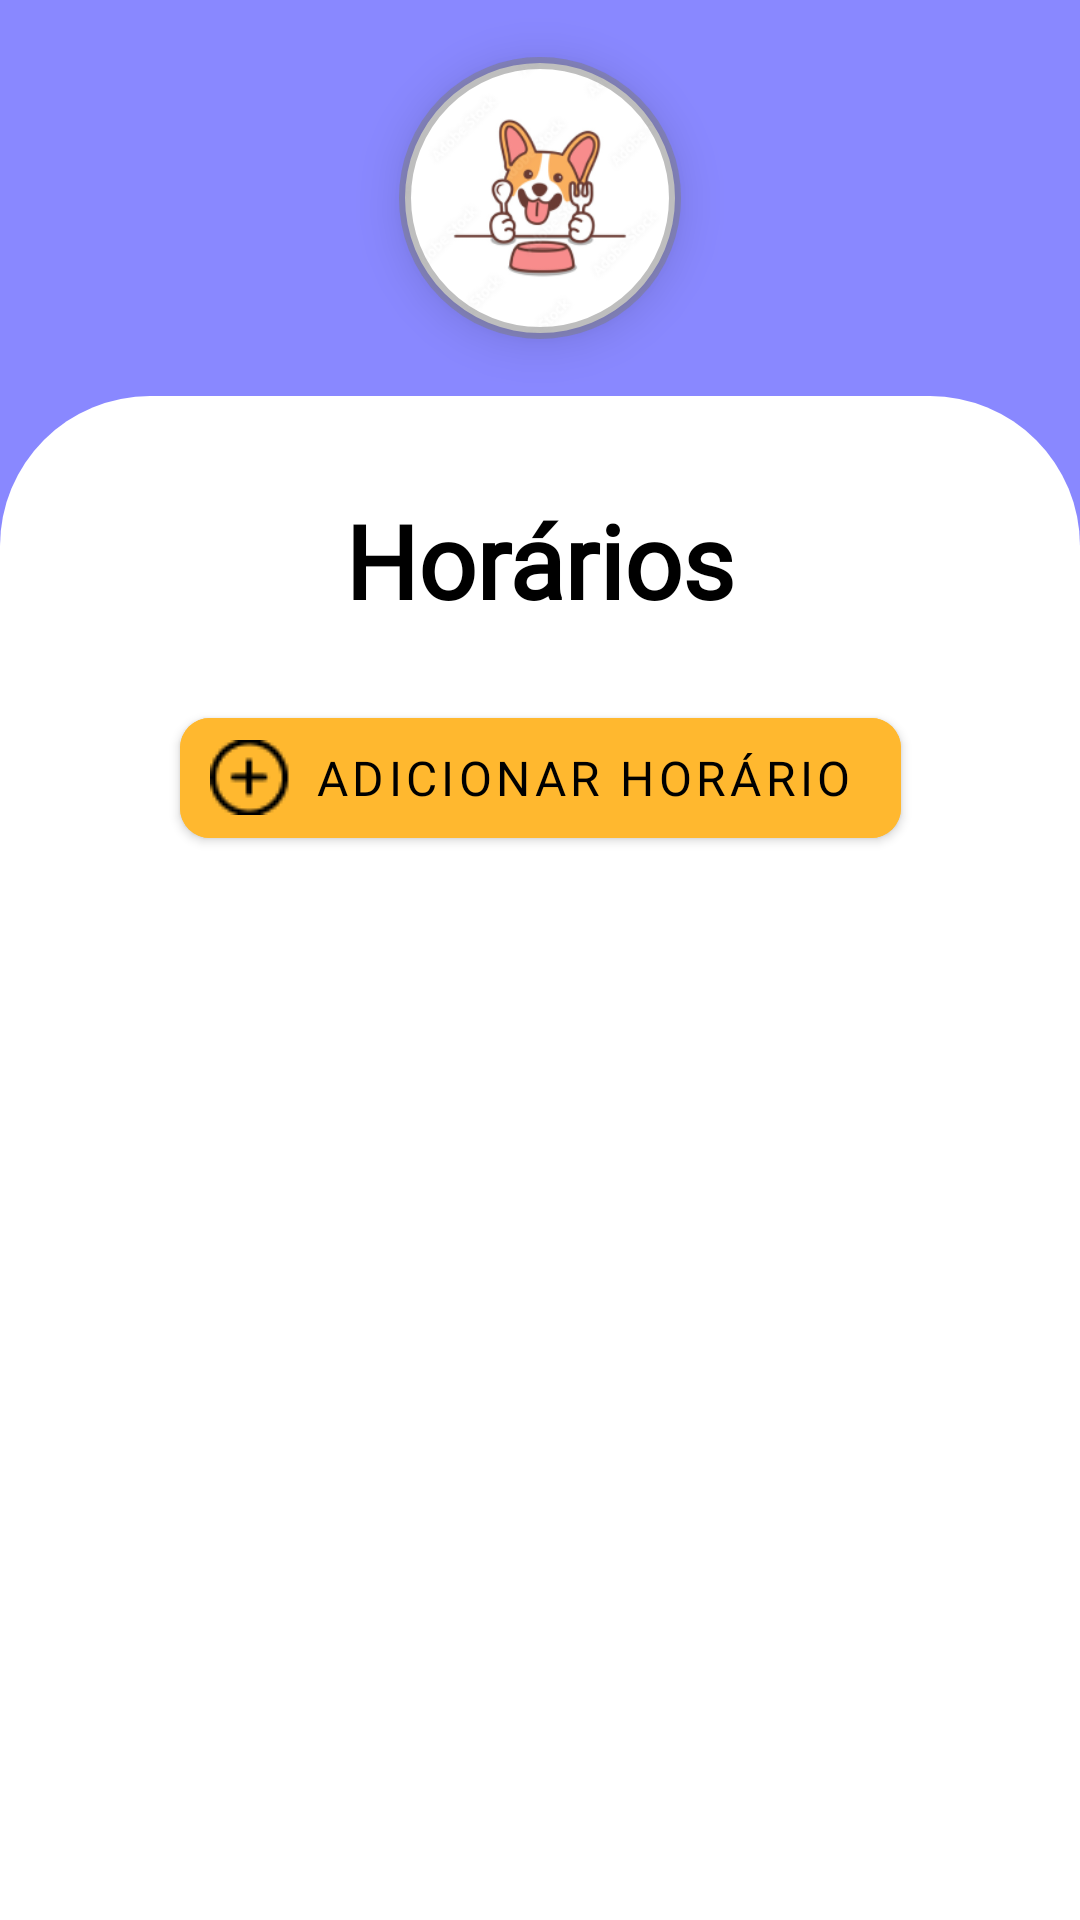

Icons on this 1080*1920 Android screen, each with the point to tap as [x,y]:
dog: [540,198]
